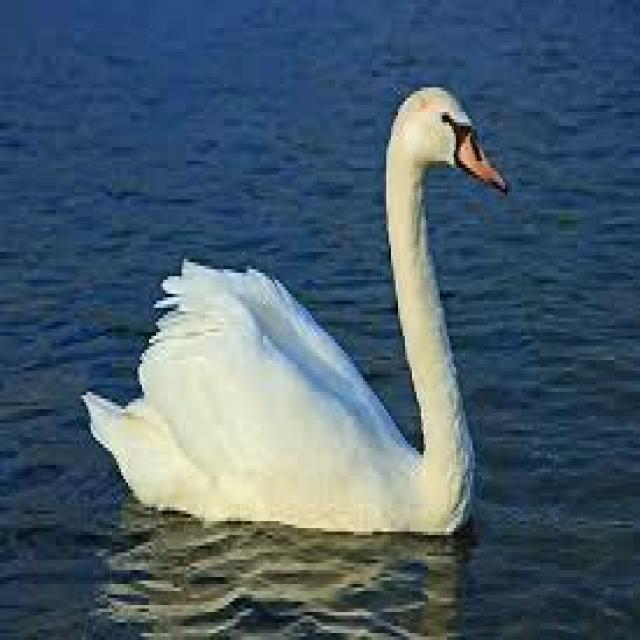swan: (81, 87, 517, 532)
